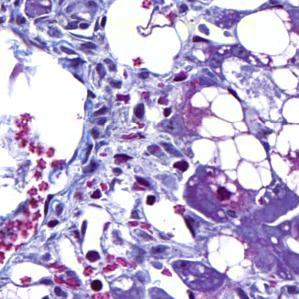ballooning: (184, 83, 273, 193), (234, 7, 297, 70)
